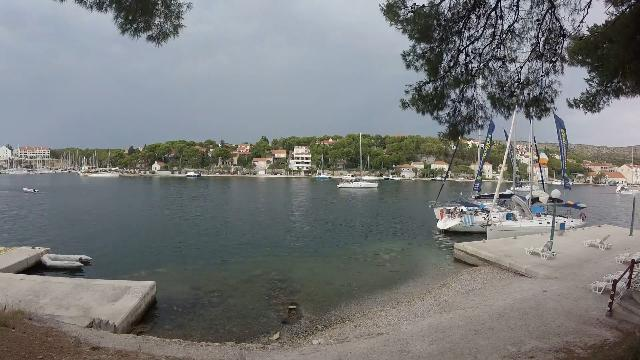Sailboat: (332, 178, 383, 192)
speedboat: (20, 182, 44, 196)
